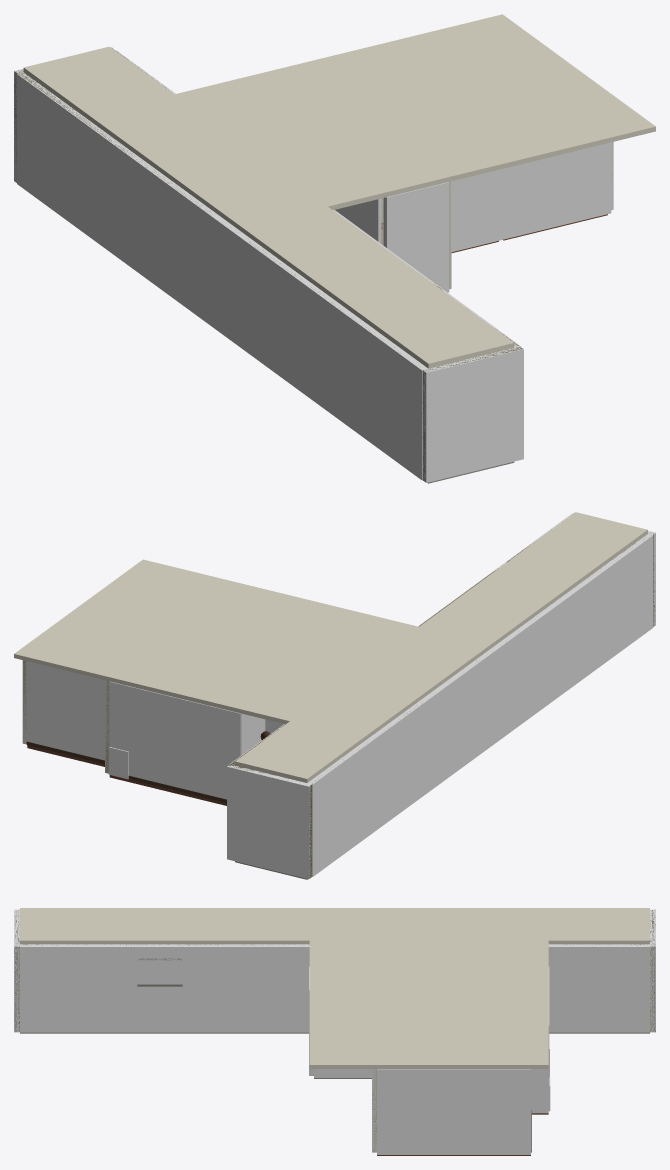
File: door.glb
3 renders of one model, top to bottom at view 1: azimuth 30°, elevation 25°; view 2: azimuth 150°, elevation 25°; view 3: azimuth 270°, elevation 25°, orthographic. The views are drawn at different scales.
Visible parts, largest first — view 1: S_apartment_shell, COL_corr_w_00, S_corridor_shell, COL_corr_s_00, COL_kit_s_00, COL_flat_s_03, COL_flat_s_04, COL_flat_s_01, COL_flat_s_06, COL_kit_w_00; view 2: S_apartment_shell, COL_corr_w_00, S_corridor_shell, COL_liv_n_00, COL_corr_n_00, COL_bed_n_00, COL_liv_w_02, COL_tv_cabinet; view 3: S_apartment_shell, S_corridor_shell, COL_bed_e_00, COL_corr_e_03, COL_corr_e_00, COL_corr_e_05, COL_corr_e_01, COL_bed_w_02, COL_corr_s_00, COL_corr_n_00, COL_kit_e_00, COL_flat_s_06.
Part boxes in pixels (x1,y1,x2,y2): S_apartment_shell: (175,14,655,289); COL_corr_w_00: (17,73,427,480); S_corridor_shell: (14,46,522,483); COL_corr_s_00: (422,346,523,482); COL_kit_s_00: (384,182,449,292); COL_flat_s_03: (482,161,533,244); COL_flat_s_04: (533,149,583,232); COL_flat_s_01: (451,174,482,251); COL_flat_s_06: (584,142,611,219); COL_kit_w_00: (337,198,383,243); S_apartment_shell: (14,559,418,805); COL_corr_w_00: (308,534,653,876); S_corridor_shell: (229,512,654,879); COL_liv_n_00: (109,681,240,799); COL_corr_n_00: (227,764,311,879); COL_bed_n_00: (27,661,104,760); COL_liv_w_02: (240,713,265,755); COL_tv_cabinet: (108,747,128,779); S_apartment_shell: (309,940,549,1155); S_corridor_shell: (14,908,655,1033); COL_bed_e_00: (377,1069,530,1154); COL_corr_e_03: (181,944,309,1032); COL_corr_e_00: (20,944,138,1032); COL_corr_e_05: (548,944,649,1032); COL_corr_e_01: (139,944,180,1032); COL_bed_w_02: (531,1069,548,1113); COL_corr_s_00: (14,909,19,1032); COL_corr_n_00: (650,909,655,1032); COL_kit_e_00: (314,1069,371,1077); COL_flat_s_06: (372,1069,376,1152).
Size of the model in its own units: 10.81 by 2.94 by 18.34.
